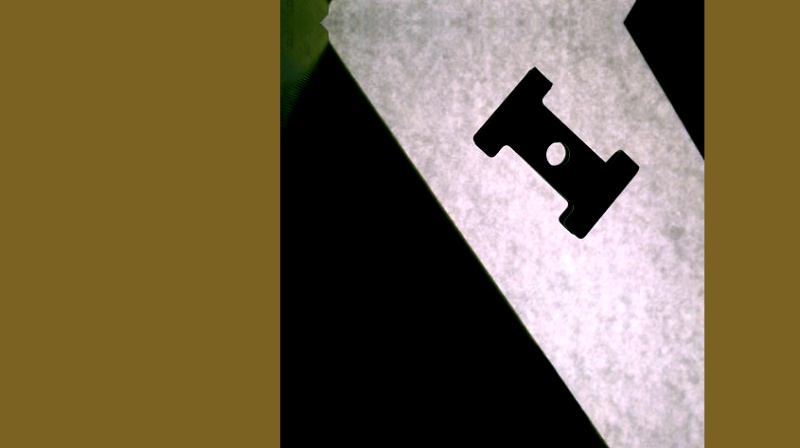O002: (472, 62, 643, 241)
